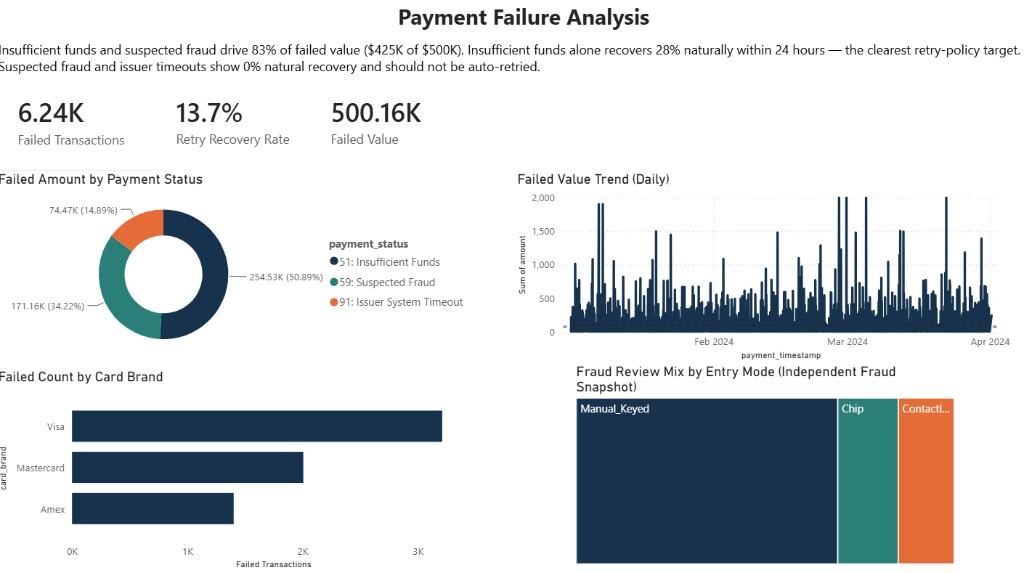

What the dashboard file says about the page in this screenshot:
{"tool":"powerbi","page":{"name":"Payment Failure Analysis","canvas":[1280,720],"ordinal":1},"visuals":[{"type":"cardVisual","fields":{"Data":["Avg(recovery_scenarios.failed_txns)"]},"box":[0,99.4,208.7,123.6],"z":0},{"type":"cardVisual","fields":{"Data":["payments.Failed Value"]},"box":[386,97.6,176.4,125.4],"z":1000},{"type":"cardVisual","fields":{"Data":["recovery_scenarios.Retry Recovery Rate"]},"box":[195.2,97.6,202.4,125.4],"z":2000},{"type":"donutChart","title":"Failed Amount by Payment Status","fields":{"Category":["payments.payment_status"],"Y":["Sum(payments.amount)"]},"box":[0,222.8,592.5,236.8],"z":3000},{"type":"clusteredBarChart","title":"Failed Count by Card Brand","fields":{"Category":["payments.card_brand"],"Y":["payments.Failed Transactions"]},"box":[0,466.6,605.5,252.8],"z":4000},{"type":"treemap","title":"Fraud Review Mix by Entry Mode (Independent Fraud Snapshot)","fields":{"Group":["fraud_scored_transactions.entry_mode"],"Values":["CountNonNull(fraud_scored_transactions.transaction_id)"]},"box":[712.7,460.1,475.9,252.6],"z":5000},{"type":"areaChart","title":"Failed Value Trend (Daily)","fields":{"Y":["Sum(payments.amount)"],"Category":["payments.payment_timestamp"]},"box":[640.5,222.8,619.5,237.8],"z":6000},{"type":"textbox","box":[334.9,9,635.8,48.4],"z":7000},{"type":"textbox","box":[0,57.3,1279.7,62.7],"z":7001}]}

Visuals, with their boxes in screenshot pixels (x1, y1, x2, y2), scaled from the page's 1280x720 canvas onto the 1024x573 screenshot:
cardVisual - Avg(recovery_scenarios.failed_txns): pyautogui.locateOnScreen(0, 79, 167, 177)
cardVisual - payments.Failed Value: pyautogui.locateOnScreen(309, 78, 450, 177)
cardVisual - recovery_scenarios.Retry Recovery Rate: pyautogui.locateOnScreen(156, 78, 318, 177)
"Failed Amount by Payment Status" donutChart: pyautogui.locateOnScreen(0, 177, 474, 366)
"Failed Count by Card Brand" clusteredBarChart: pyautogui.locateOnScreen(0, 371, 484, 572)
"Fraud Review Mix by Entry Mode (Independent Fraud Snapshot)" treemap: pyautogui.locateOnScreen(570, 366, 951, 567)
"Failed Value Trend (Daily)" areaChart: pyautogui.locateOnScreen(512, 177, 1008, 367)
textbox: pyautogui.locateOnScreen(268, 7, 777, 46)
textbox: pyautogui.locateOnScreen(0, 46, 1023, 96)
